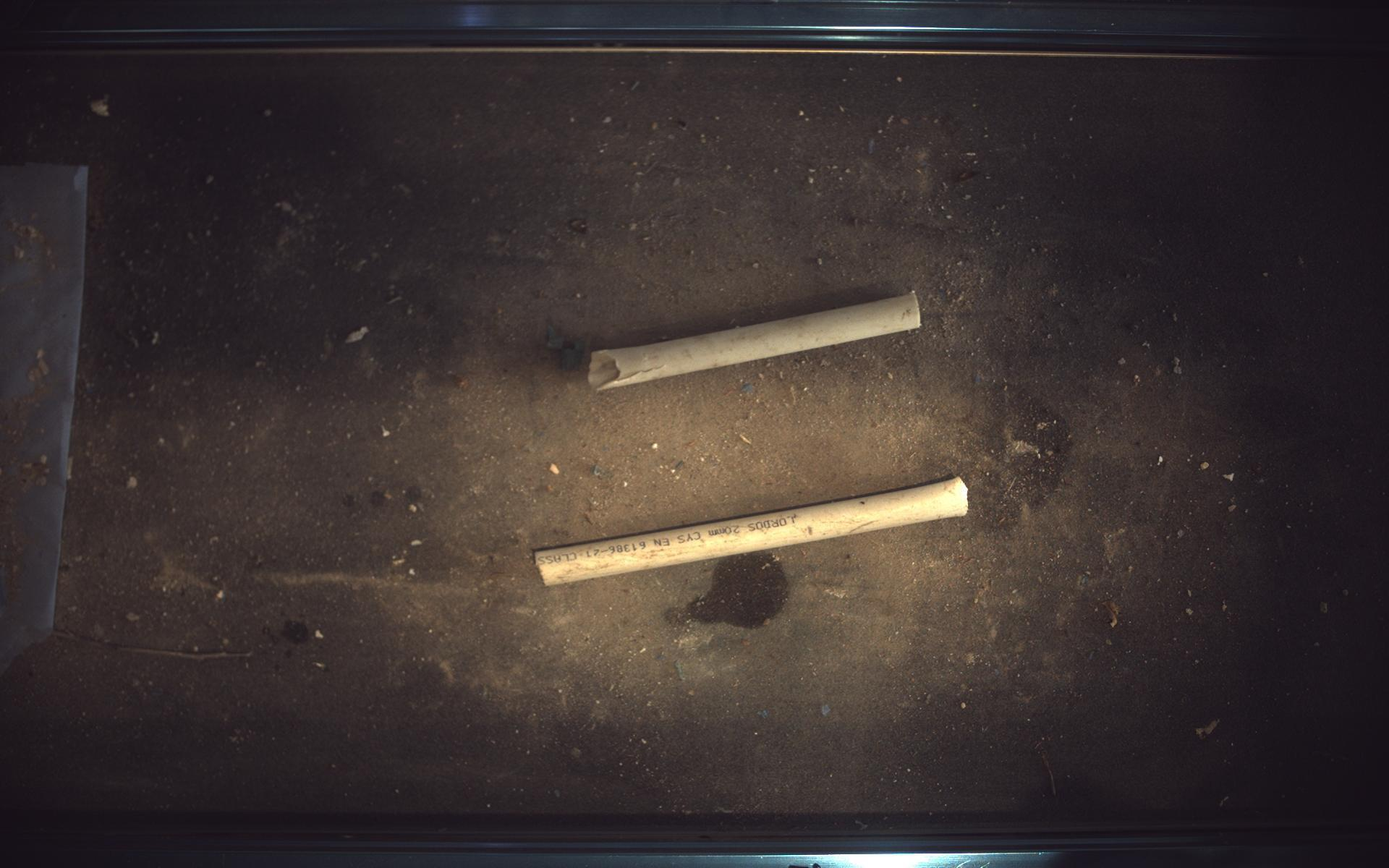pipes: (535, 477, 970, 587), (589, 292, 922, 390)
